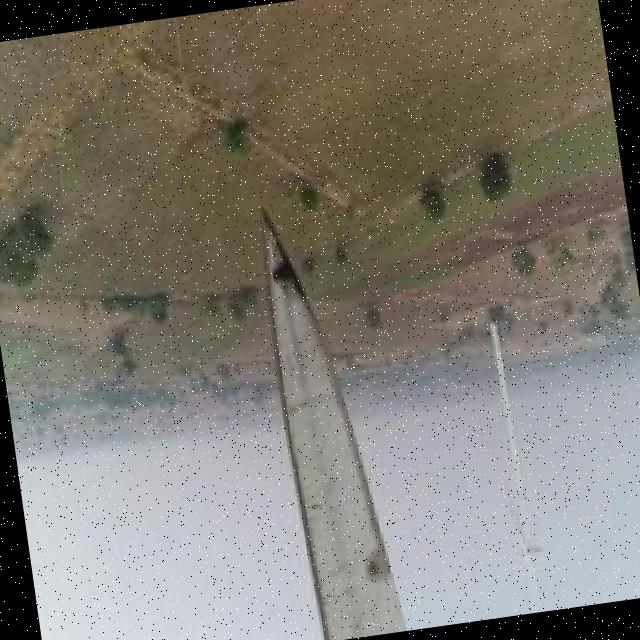Dirt: (262, 215, 413, 640)
Oil LEAKAGE: (262, 212, 314, 314)
Pin Hole: (364, 553, 383, 580)
